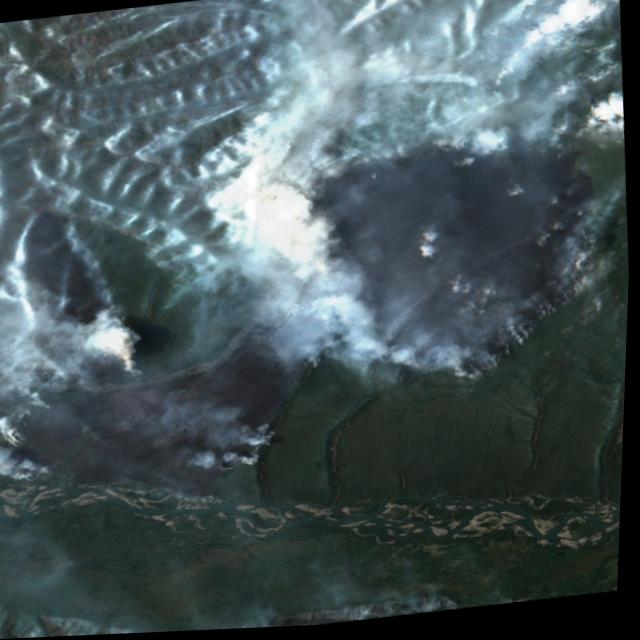fire: (0, 109, 623, 539), (423, 0, 482, 14)
